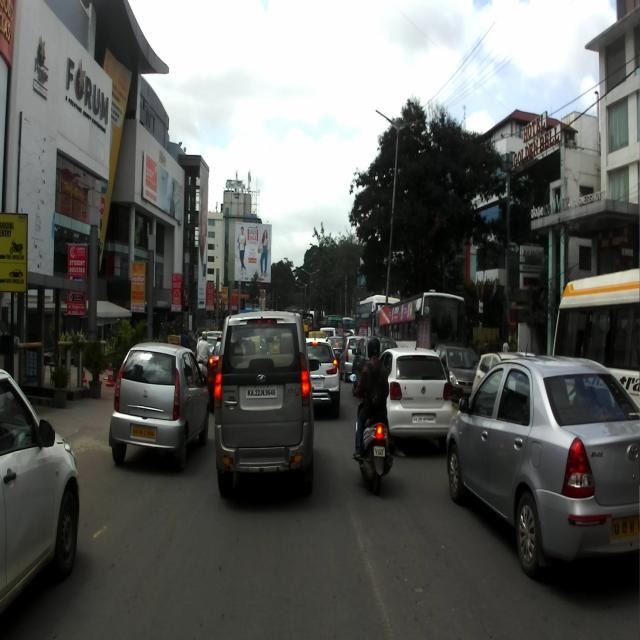Car_Mahindra: (215, 310, 313, 492)
Car_Maruti-Suzuki: (0, 368, 83, 616)
Car_TATA: (104, 344, 209, 468)
Car_Toyota: (444, 356, 639, 582)
Car_Volkswagen: (377, 349, 451, 454)
scooter: (348, 369, 394, 491)
